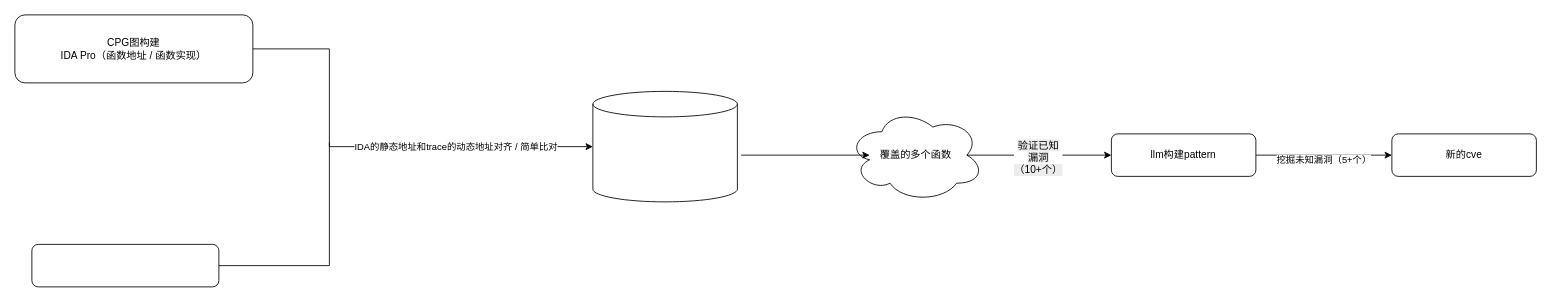
Some shapes in this 1551 by 302 pixel diagram are drawn without their labels. Here are the shapes that lost their labels. From the top down, the centre of each, then its label:
[664,146]: CPG图
[125,265]: get trace(input -> binary)
